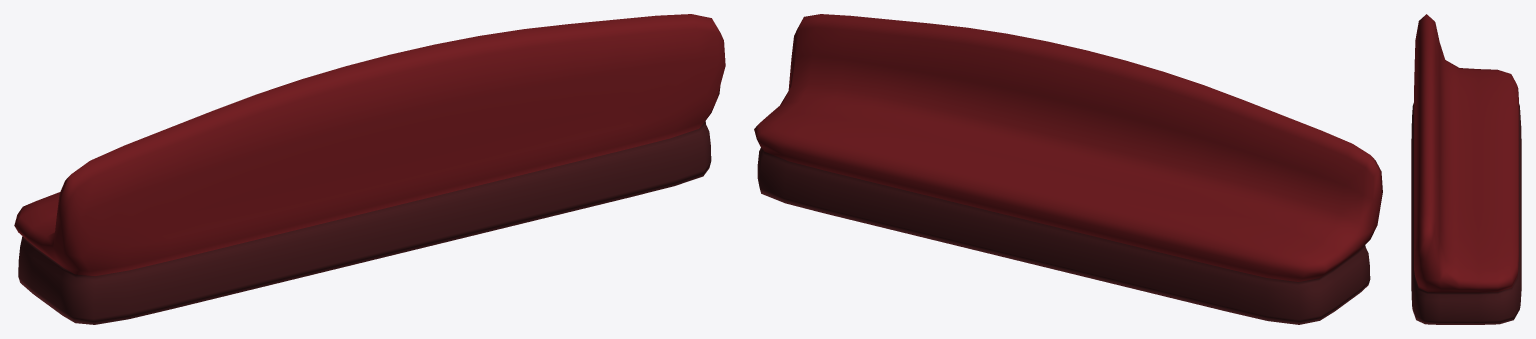
File: Sillon.fbx
The picture shows the model from 3 angles, left to right: view 1: azimuth 30°, elevation 25°; view 2: azimuth 150°, elevation 25°; view 3: azimuth 270°, elevation 25°; orthographic projection. The views are drawn at different scales.
Visible parts, largest first — view 1: Cube.020; view 2: Cube.020; view 3: Cube.020.
Part boxes in pixels (x1,y1,x2,y2): Cube.020: (14, 14, 725, 324); Cube.020: (754, 14, 1382, 324); Cube.020: (1411, 14, 1521, 324).
Bounding box in the file's own units: 4465 × 1229 × 952.
